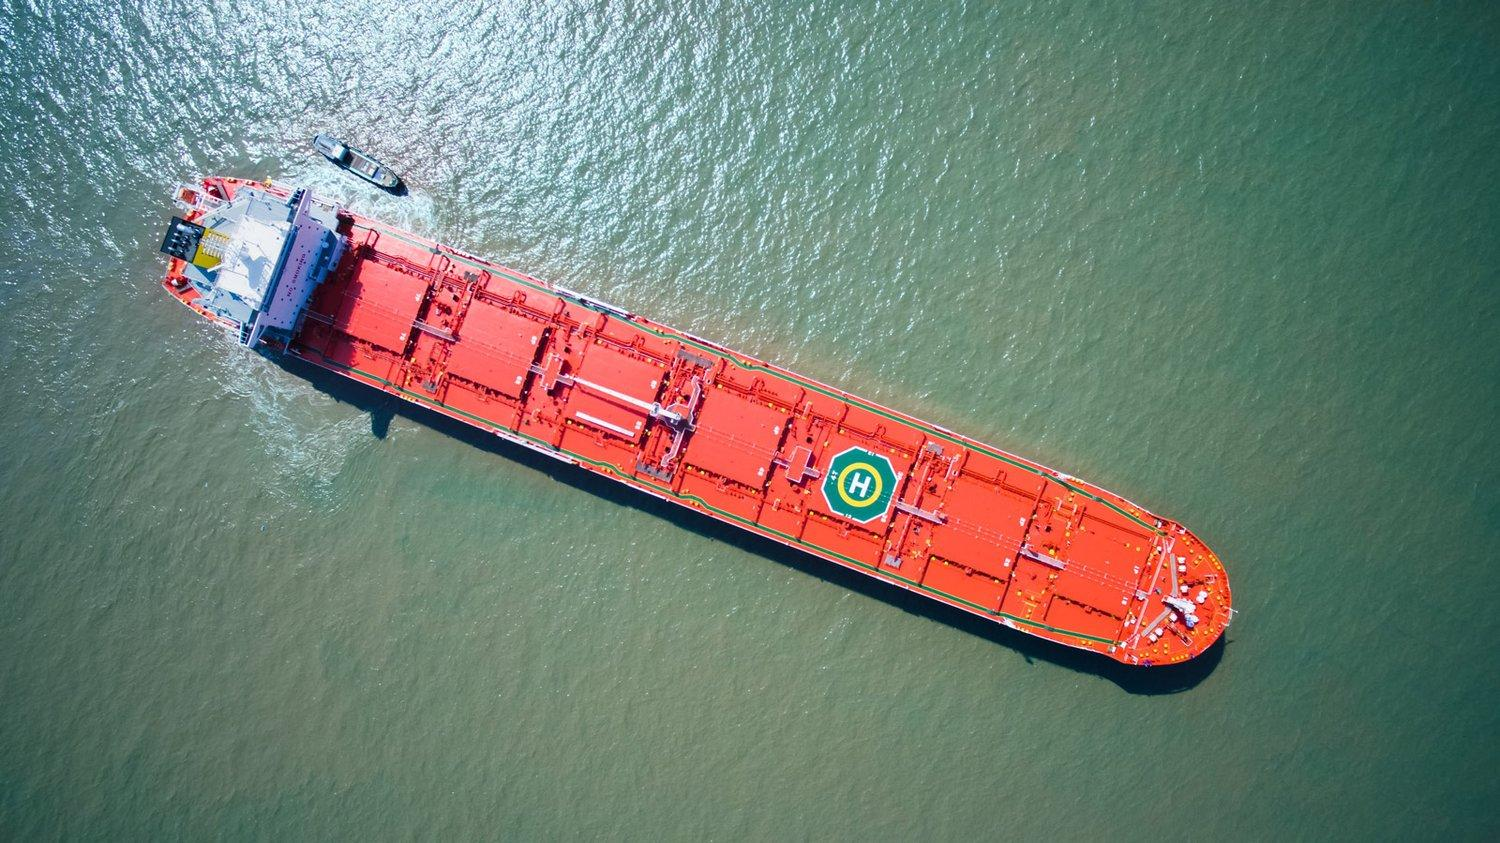Ship: (140, 172, 1240, 711), (300, 128, 415, 197)
